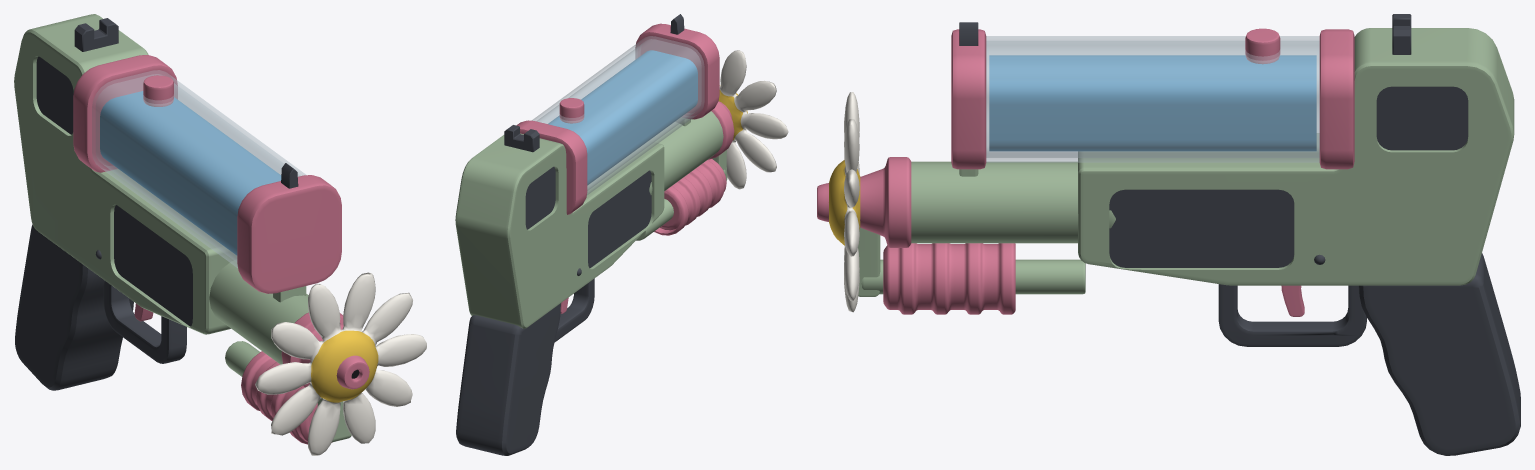
Rendered from w_water@water_flower.glb.
The picture shows the model from 3 angles, left to right: view 1: azimuth 30°, elevation 25°; view 2: azimuth 150°, elevation 25°; view 3: azimuth 270°, elevation 25°; orthographic projection. The views are drawn at different scales.
Parts seen in each view (by area): view 1: body_wzA__body__p9fb79a, tank_wzN__glass__gd3e4ee47, tank_wzB__accent__pd27a95, water_wzN__water__p4a98cc, flower_wzN__petal__pf4f1ea, grip_wzB__frame__p444851, body_wzN__frame__p444851, guard_wzB__frame__p444851, flower_wzN__heart__pe8c24a, pump_wzB__accent__pd27a95, sight_wzN__frame__p444851, nozzle_wzN__accent__pd27a95; view 2: body_wzA__body__p9fb79a, tank_wzN__glass__gd3e4ee47, grip_wzB__frame__p444851, water_wzN__water__p4a98cc, tank_wzB__accent__pd27a95, body_wzN__frame__p444851, flower_wzN__petal__pf4f1ea, pump_wzB__accent__pd27a95, guard_wzB__frame__p444851, sight_wzN__frame__p444851, nozzle_wzN__accent__pd27a95, flower_wzN__heart__pe8c24a; view 3: body_wzA__body__p9fb79a, tank_wzN__glass__gd3e4ee47, water_wzN__water__p4a98cc, grip_wzB__frame__p444851, body_wzN__frame__p444851, tank_wzB__accent__pd27a95, pump_wzB__accent__pd27a95, guard_wzB__frame__p444851, nozzle_wzN__accent__pd27a95, flower_wzN__petal__pf4f1ea, flower_wzN__heart__pe8c24a, sight_wzN__frame__p444851.
Boxes of the visible parts, bbox=[...] form: body_wzA__body__p9fb79a: bbox=[14, 14, 351, 442]; tank_wzN__glass__gd3e4ee47: bbox=[92, 70, 306, 267]; tank_wzB__accent__pd27a95: bbox=[73, 55, 341, 293]; water_wzN__water__p4a98cc: bbox=[100, 91, 281, 255]; flower_wzN__petal__pf4f1ea: bbox=[255, 272, 426, 455]; grip_wzB__frame__p444851: bbox=[15, 224, 133, 390]; body_wzN__frame__p444851: bbox=[36, 56, 192, 326]; guard_wzB__frame__p444851: bbox=[103, 281, 186, 363]; flower_wzN__heart__pe8c24a: bbox=[311, 330, 378, 402]; pump_wzB__accent__pd27a95: bbox=[241, 351, 332, 444]; sight_wzN__frame__p444851: bbox=[74, 18, 298, 188]; nozzle_wzN__accent__pd27a95: bbox=[281, 312, 369, 389]; body_wzA__body__p9fb79a: bbox=[455, 111, 727, 328]; tank_wzN__glass__gd3e4ee47: bbox=[532, 36, 704, 195]; grip_wzB__frame__p444851: bbox=[456, 303, 560, 455]; water_wzN__water__p4a98cc: bbox=[548, 50, 697, 185]; tank_wzB__accent__pd27a95: bbox=[516, 23, 719, 214]; body_wzN__frame__p444851: bbox=[525, 166, 651, 275]; flower_wzN__petal__pf4f1ea: bbox=[719, 50, 788, 189]; pump_wzB__accent__pd27a95: bbox=[654, 159, 726, 235]; guard_wzB__frame__p444851: bbox=[554, 278, 594, 342]; sight_wzN__frame__p444851: bbox=[504, 14, 684, 152]; nozzle_wzN__accent__pd27a95: bbox=[708, 101, 734, 159]; flower_wzN__heart__pe8c24a: bbox=[718, 85, 747, 140]; body_wzA__body__p9fb79a: bbox=[858, 28, 1514, 296]; tank_wzN__glass__gd3e4ee47: bbox=[986, 36, 1319, 162]; water_wzN__water__p4a98cc: bbox=[989, 55, 1316, 151]; grip_wzB__frame__p444851: bbox=[1358, 253, 1520, 455]; body_wzN__frame__p444851: bbox=[1109, 86, 1468, 267]; tank_wzB__accent__pd27a95: bbox=[951, 28, 1354, 169]; pump_wzB__accent__pd27a95: bbox=[883, 243, 1015, 314]; guard_wzB__frame__p444851: bbox=[1218, 284, 1366, 346]; nozzle_wzN__accent__pd27a95: bbox=[817, 157, 911, 247]; flower_wzN__petal__pf4f1ea: bbox=[844, 92, 859, 312]; flower_wzN__heart__pe8c24a: bbox=[829, 159, 860, 245]; sight_wzN__frame__p444851: bbox=[959, 14, 1411, 54].
Size of the model in its own units: 0.1409 by 0.2928 by 0.4453.
